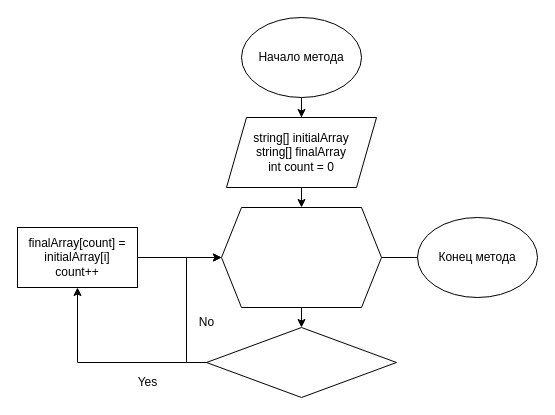
Image size: 555x415. Some labels were removed from this diagram. The shapes that lost their labels are listed below. From the top down, each one's box as (x1, y1, x2, y2) in pixels, then its label:
(220, 206, 382, 308): for(int i = 0; i < initialArray.Length; i++)
(206, 326, 396, 398): if(initialArray[i].Length <= 3)
